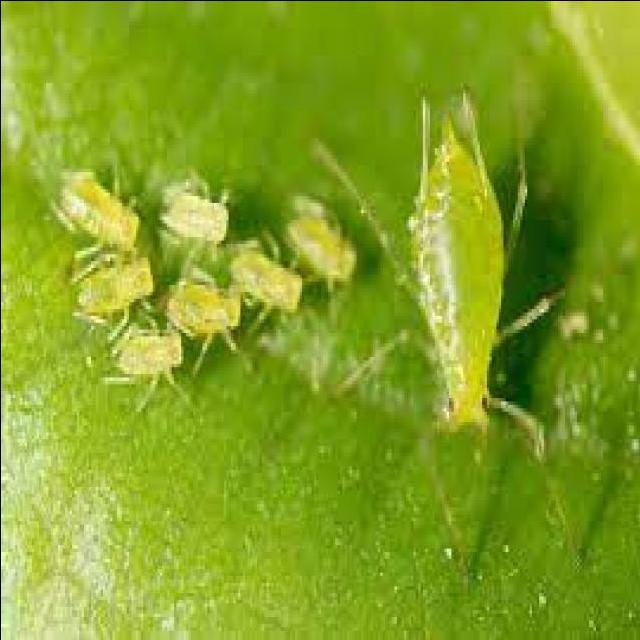aphid: (366, 54, 566, 508), (49, 158, 148, 261), (226, 228, 314, 334), (156, 268, 244, 362), (59, 242, 154, 328)
